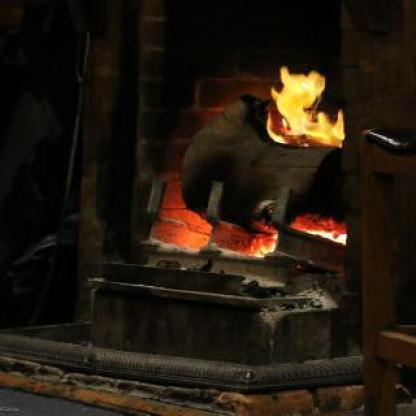fire: (248, 64, 350, 152)
